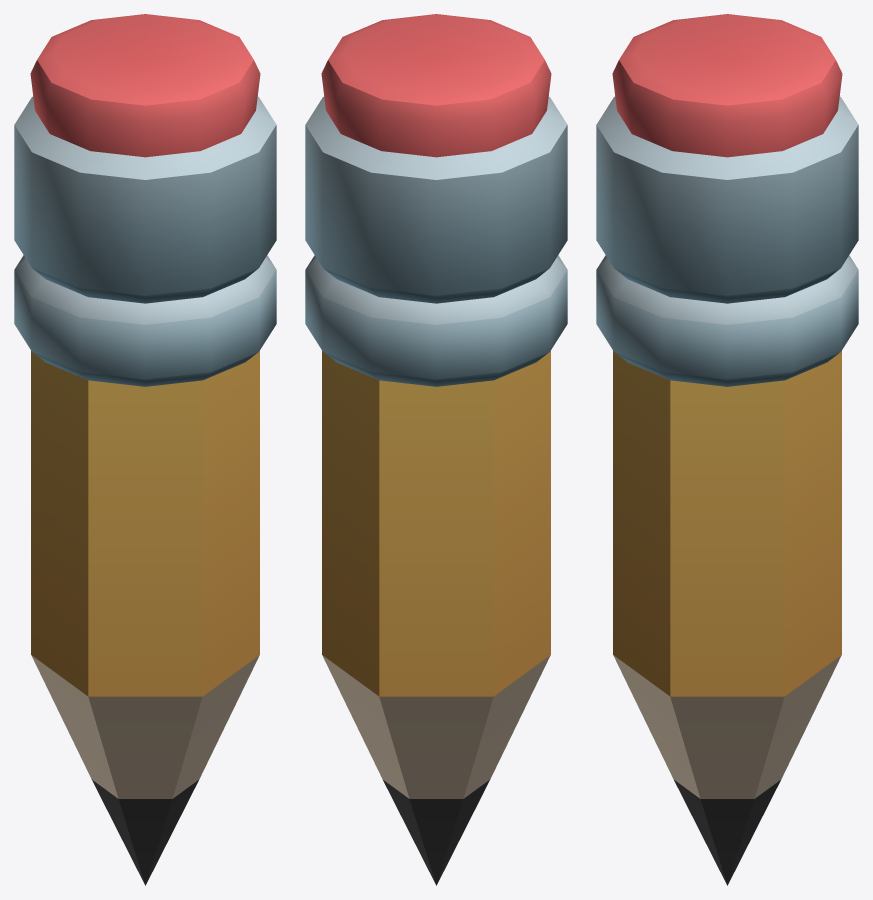
File: pencil_b_short.glb
The picture shows the model from 3 angles, left to right: view 1: azimuth 30°, elevation 25°; view 2: azimuth 150°, elevation 25°; view 3: azimuth 270°, elevation 25°; orthographic projection.
Parts seen in each view (by area): view 1: pencil_B_short; view 2: pencil_B_short; view 3: pencil_B_short.
Part boxes in pixels (left/top/right/bottom): pencil_B_short: left=14, top=14, right=276, bottom=885; pencil_B_short: left=305, top=14, right=567, bottom=885; pencil_B_short: left=596, top=14, right=858, bottom=885.
Bounding box in the file's own units: 0.0683 × 0.2391 × 0.0683.
Materials: 1 (1 with a texture image).
